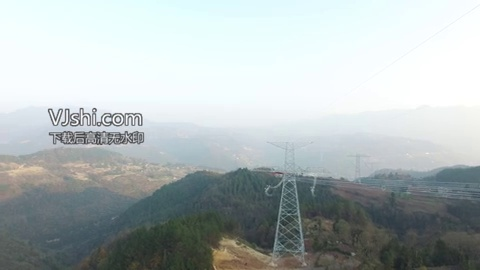tower_body: (261, 134, 326, 269)
tower_foot: (271, 232, 307, 266)
tower_head: (265, 138, 323, 153)
